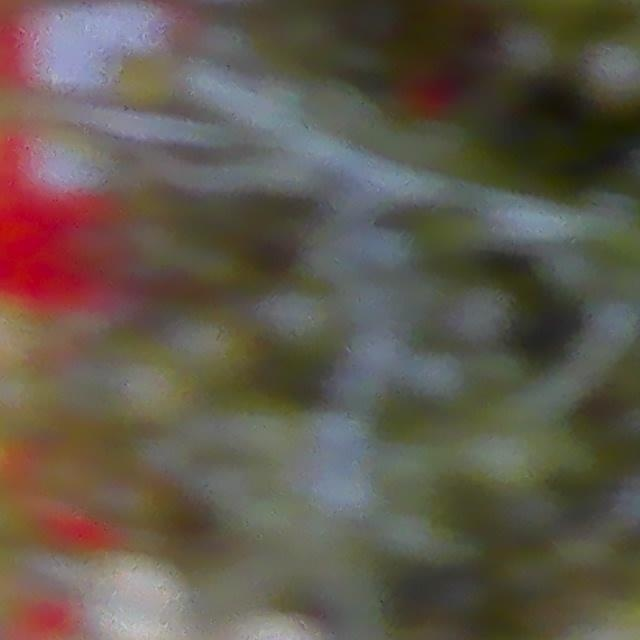SeaGrape: (493, 14, 563, 85)
